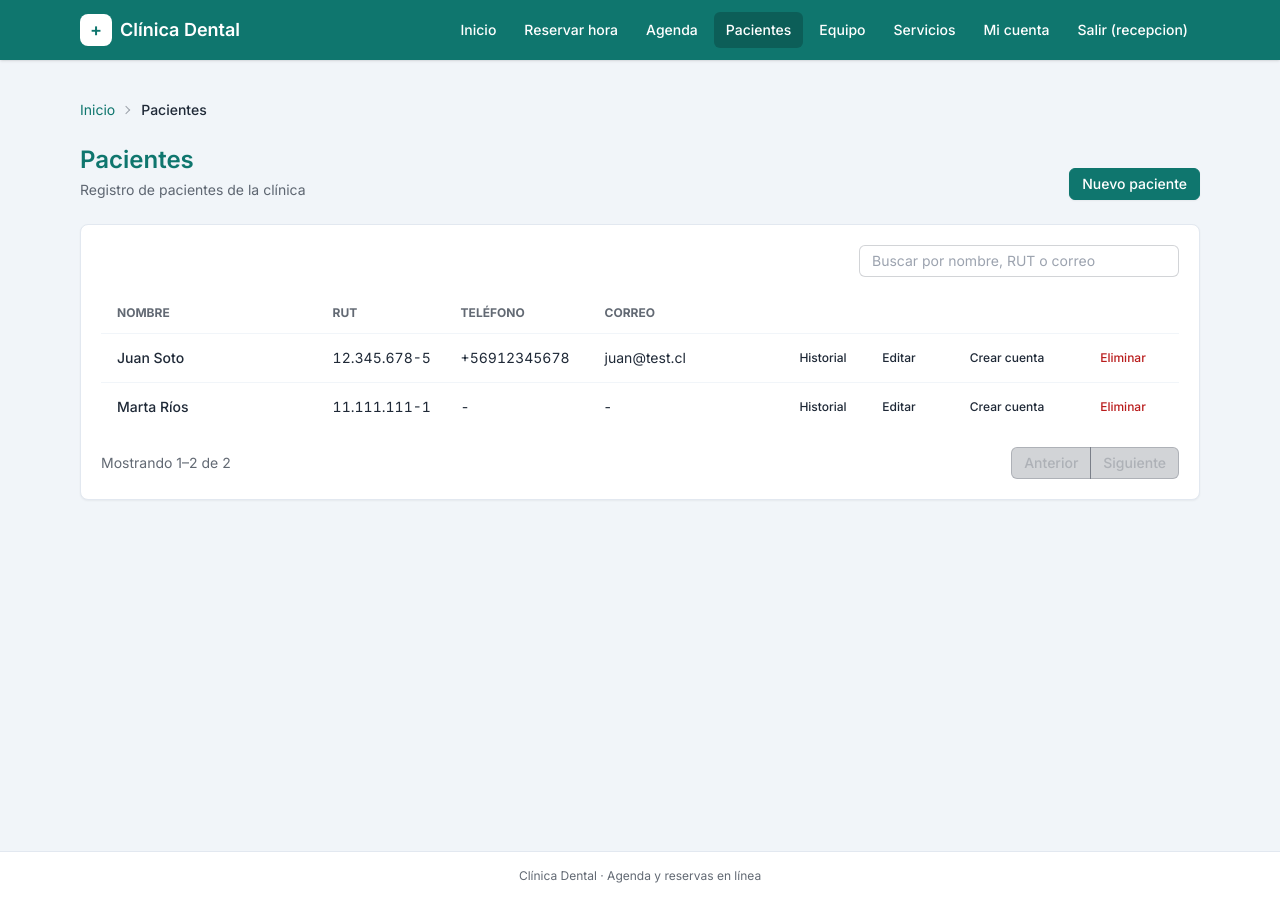
Test case: Cuentas de pacientes › crea la cuenta de un paciente desde la lista
This screenshot has width=1280, height=900.
Expected: the text "Juan Soto" is shown, [101,334,317,382]
Click the button "Crear cuenta" in the row of "Juan Soto" at (1007, 358), box [935,346,1079,370]
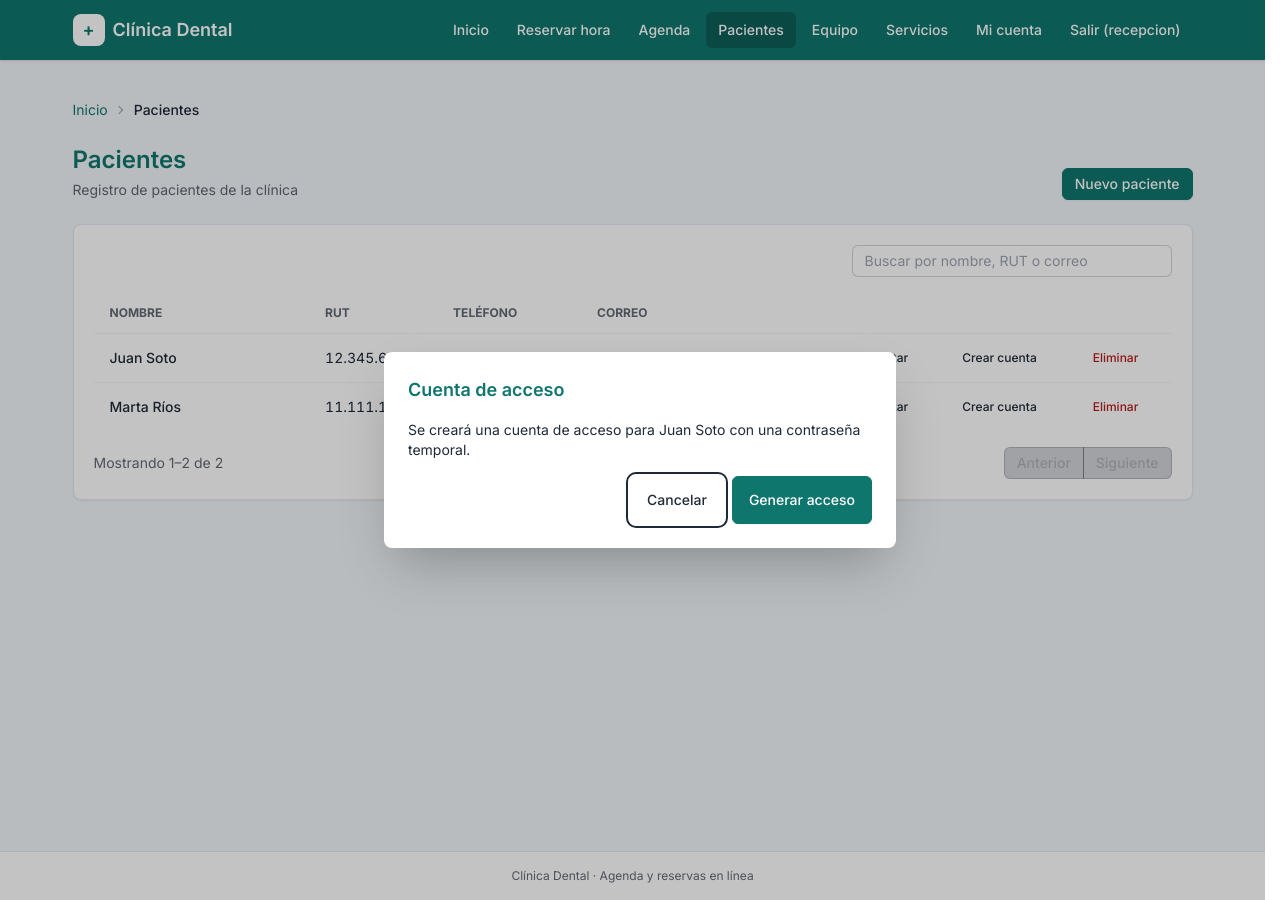
Click the button "Generar acceso" at (802, 500), box [732,476,872,524]
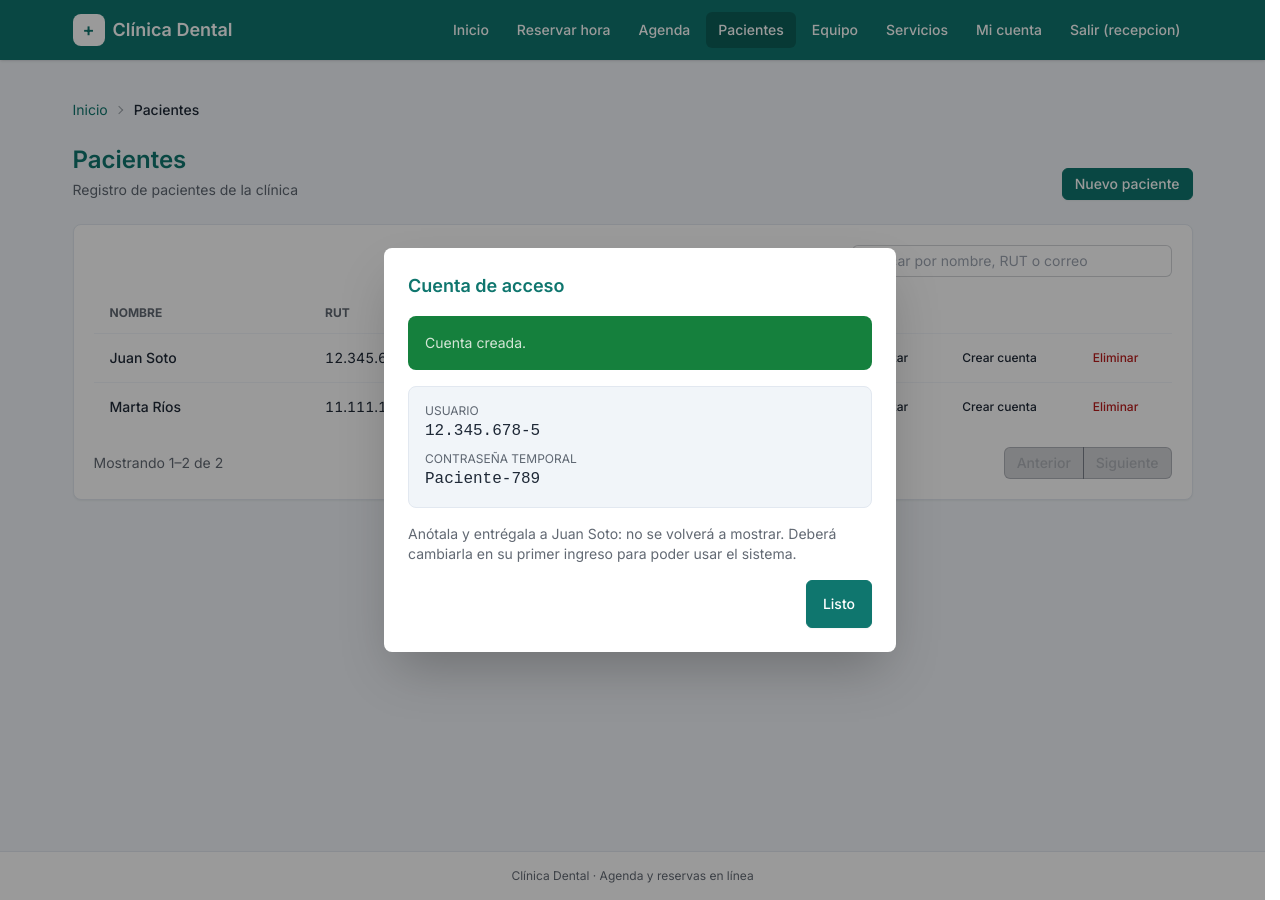
Result: the text "Paciente-789" is shown at [425,470,540,488]
